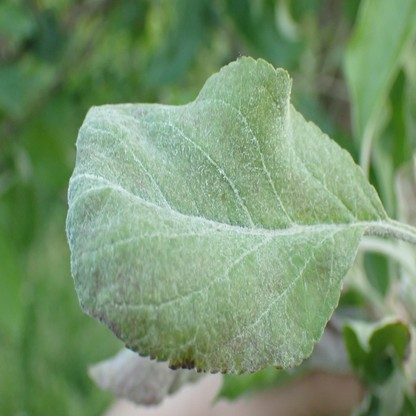powder: (66, 57, 389, 375)
